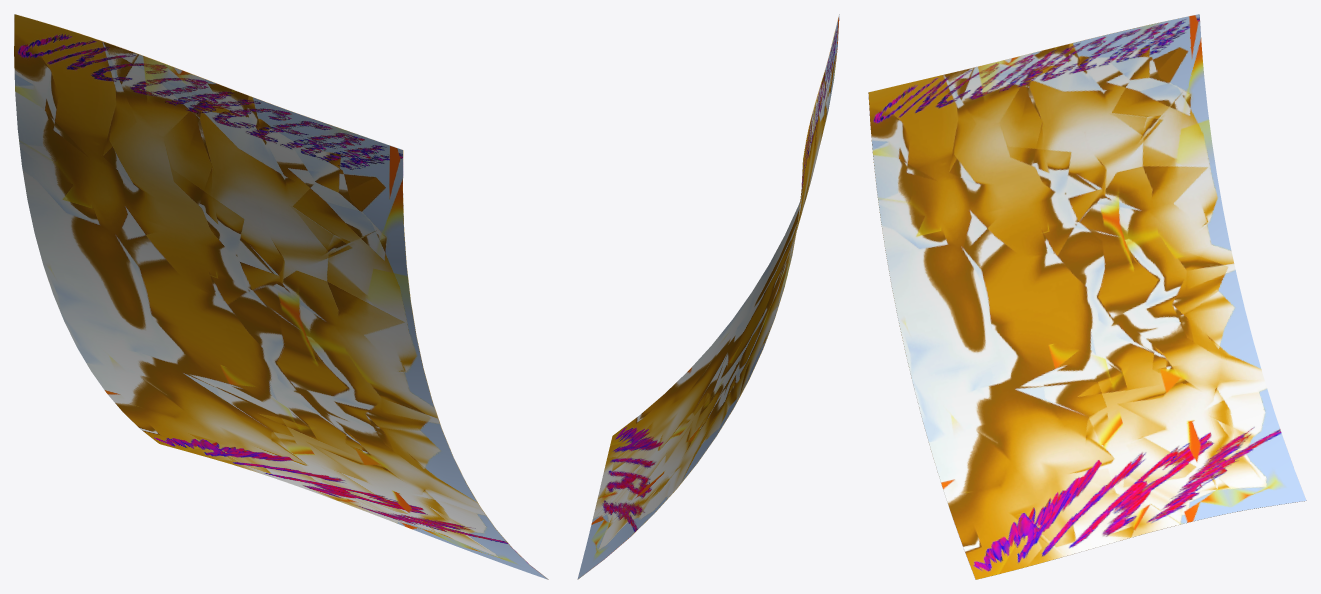
The model's file is airy-flag.glb.
3 views of the same model, side by side, from view 1: azimuth 30°, elevation 25°; view 2: azimuth 150°, elevation 25°; view 3: azimuth 270°, elevation 25° (orthographic). The views are drawn at different scales.
Visible parts, largest first — view 1: Cube.1 (Copy); view 2: Cube.1 (Copy); view 3: Cube.1 (Copy).
Part boxes in pixels (x1,y1,x2,y2): Cube.1 (Copy): [14, 14, 548, 579]; Cube.1 (Copy): [577, 14, 839, 579]; Cube.1 (Copy): [868, 14, 1306, 579].
Bounding box in the file's own units: 279 × 380 × 357.
1 material, 1 textured.
